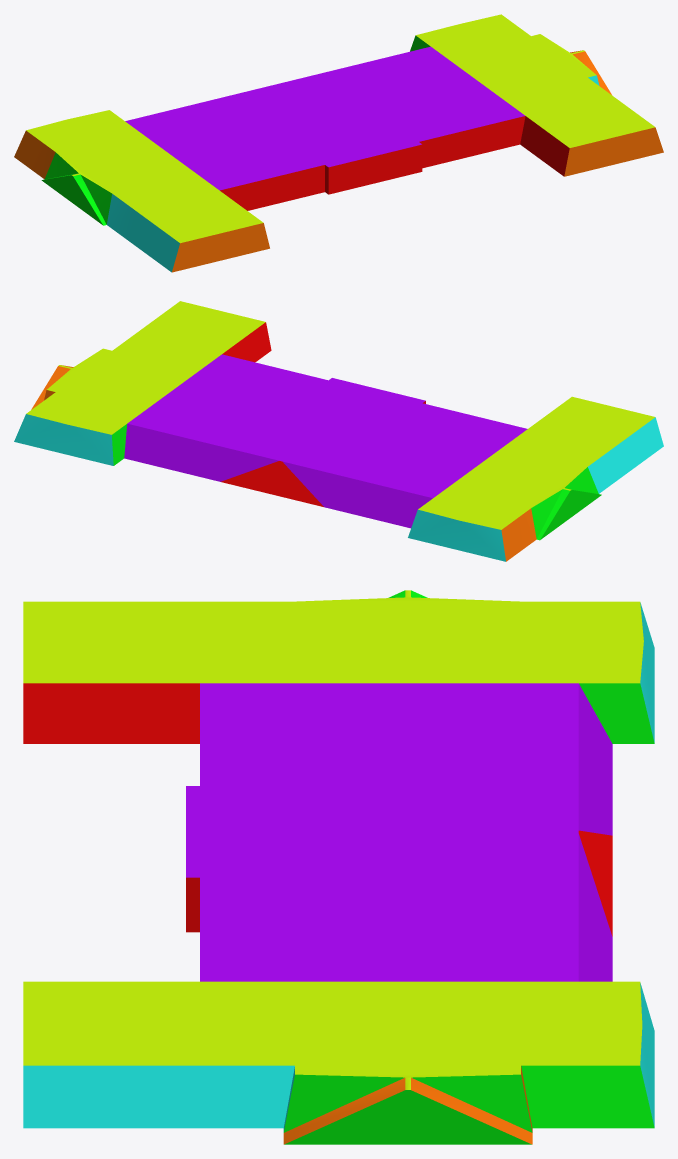
Rendered from Roof_low.FBX.
3 renders of one model, top to bottom at view 1: azimuth 30°, elevation 25°; view 2: azimuth 150°, elevation 25°; view 3: azimuth 270°, elevation 25°, orthographic. The views are drawn at different scales.
Parts seen in each view (by area): view 1: Roof; view 2: Roof; view 3: Roof.
Part boxes in pixels (bbox=[...]): Roof: bbox=[14, 14, 663, 272]; Roof: bbox=[14, 301, 663, 561]; Roof: bbox=[23, 590, 654, 1144].
Size of the model in its own units: 4799 by 244 by 2562.
